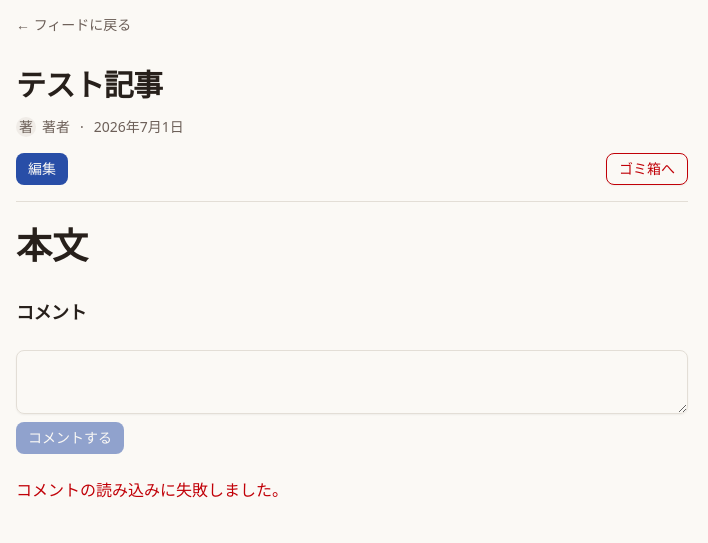
Test case: ArticleDetailPage › 削除失敗時はページに留まり、エラーメッセージを表示する
Click the button "ゴミ箱へ": (647, 169) x1=606 y1=153 x2=688 y2=185
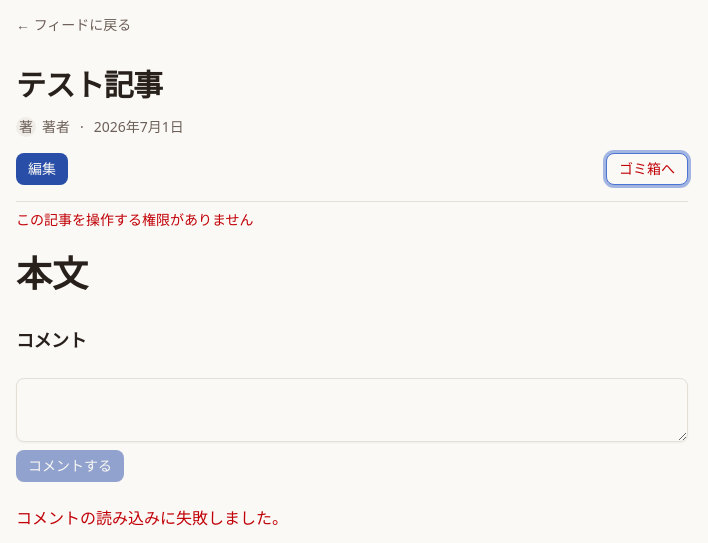
Expected: the heading "テスト記事" is shown, x1=16 y1=64 x2=162 y2=105
Result: the text "この記事を操作する権限がありません" is shown at x1=16 y1=210 x2=254 y2=229
